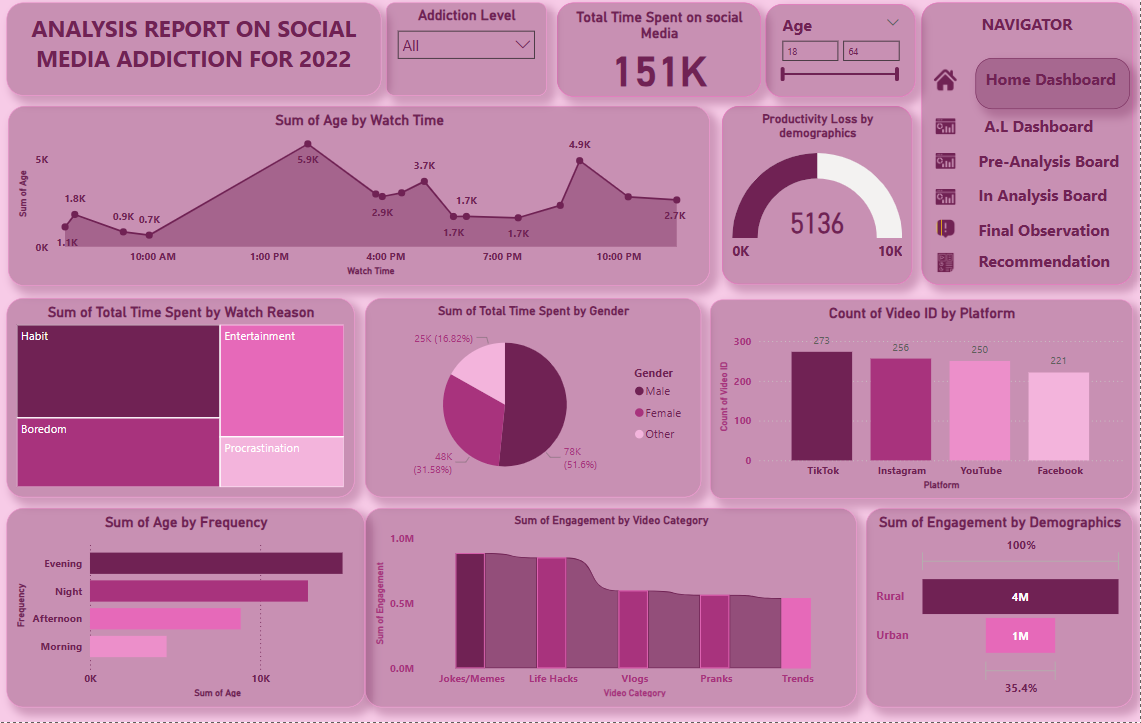

What the dashboard file says about the page in this screenshot:
{"tool":"powerbi","page":{"name":"Home Dashboard","canvas":[1340,850],"ordinal":0},"visuals":[{"type":"areaChart","fields":{"Category":["Time-Wasters on Social Media (1).Watch Time"],"Y":["Sum(Time-Wasters on Social Media (1).Age)"]},"box":[10.6,126.8,824.2,211.3],"z":0},{"type":"pieChart","fields":{"Category":["Time-Wasters on Social Media (1).Gender"],"Y":["Sum(Time-Wasters on Social Media (1).Total Time Spent)"]},"box":[429.7,352.2,394.5,234.2],"z":1000},{"type":"barChart","fields":{"Category":["Time-Wasters on Social Media (1).Frequency"],"Y":["Sum(Time-Wasters on Social Media (1).Age)"]},"box":[8.8,598.8,420.9,234.2],"z":2000},{"type":"clusteredColumnChart","fields":{"Category":["Time-Wasters on Social Media (1).Platform"],"Y":["CountNonNull(Time-Wasters on Social Media (1).Video ID)"]},"box":[834.8,354,496.6,234.2],"z":3000},{"type":"treemap","fields":{"Group":["Time-Wasters on Social Media (1).Watch Reason"],"Values":["Sum(Time-Wasters on Social Media (1).Total Time Spent)"]},"box":[8.8,352.2,408.6,234.2],"z":4000},{"type":"funnel","fields":{"Y":["Sum(Time-Wasters on Social Media (1).Engagement)"],"Category":["Time-Wasters on Social Media (1).Demographics"]},"box":[1017.9,598.8,313.5,234.2],"z":5000},{"type":"ribbonChart","fields":{"Category":["Time-Wasters on Social Media (1).Video Category"],"Y":["Sum(Time-Wasters on Social Media (1).Engagement)"]},"box":[429.7,598.8,577.6,234.2],"z":6000},{"type":"textbox","box":[8.8,5.3,440.3,109.2],"z":7000},{"type":"gauge","title":"Productivity Loss by demographics","fields":{"Y":["Sum(Time-Wasters on Social Media (1).ProductivityLoss)"]},"box":[848.8,126.8,223.7,209.6],"z":8000},{"type":"card","title":"Total Time Spent on social Media","fields":{"Values":["Sum(Time-Wasters on Social Media (1).Total Time Spent)"]},"box":[655.1,5.3,239.5,110.9],"z":9000},{"type":"slicer","title":"Addiction Level","fields":{"Values":["Time-Wasters on Social Media (1).Addiction Level"]},"box":[454.4,5.3,188.4,109.2],"z":10000},{"type":"textbox","box":[1083.1,5.3,248.3,331.1],"z":11000},{"type":"textbox","box":[1146.5,70.4,181.4,59.9],"z":12000},{"type":"textbox","box":[1146.5,126.8,181.4,44],"z":13000},{"type":"textbox","box":[1144.7,172.6,186.7,37],"z":14000},{"type":"textbox","box":[1144.7,213.1,186.7,38.7],"z":15000},{"type":"textbox","box":[1144.7,253.6,186.7,35.2],"z":16000},{"type":"textbox","box":[1144.7,290.6,186.7,40.5],"z":17000},{"type":"slicer","fields":{"Values":["Time-Wasters on Social Media (1).Age"]},"box":[899.9,7,176.1,109.2],"z":18000},{"type":"image","box":[1088.4,77.5,45.8,37],"z":18001},{"type":"image","box":[1093.6,130.3,35.2,40.5],"z":18002},{"type":"image","box":[1093.6,170.8,35.2,40.5],"z":18003},{"type":"image","box":[1093.6,213.1,35.2,40.5],"z":18004},{"type":"image","box":[1093.6,283.5,35.2,54.6],"z":18005},{"type":"image","box":[1093.6,246.6,35.2,49.3],"z":18006}]}

Visuals, with their boxes in screenshot pixels (x1, y1, x2, y2), scaled from the page's 1340x850 canvas onto the 1141x723 screenshot:
areaChart - Time-Wasters on Social Media (1).Watch Time x Sum(Time-Wasters on Social Media (1).Age): 9,108,711,288
pieChart - Time-Wasters on Social Media (1).Gender x Sum(Time-Wasters on Social Media (1).Total Time Spent): 366,300,702,499
barChart - Time-Wasters on Social Media (1).Frequency x Sum(Time-Wasters on Social Media (1).Age): 7,509,366,709
clusteredColumnChart - Time-Wasters on Social Media (1).Platform x CountNonNull(Time-Wasters on Social Media (1).Video ID): 711,301,1134,500
treemap - Time-Wasters on Social Media (1).Watch Reason x Sum(Time-Wasters on Social Media (1).Total Time Spent): 7,300,355,499
funnel - Sum(Time-Wasters on Social Media (1).Engagement) x Time-Wasters on Social Media (1).Demographics: 867,509,1134,709
ribbonChart - Time-Wasters on Social Media (1).Video Category x Sum(Time-Wasters on Social Media (1).Engagement): 366,509,858,709
textbox: 7,5,382,97
"Productivity Loss by demographics" gauge: 723,108,913,286
"Total Time Spent on social Media" card: 558,5,762,99
"Addiction Level" slicer: 387,5,547,97
textbox: 922,5,1134,286
textbox: 976,60,1131,111
textbox: 976,108,1131,145
textbox: 975,147,1134,178
textbox: 975,181,1134,214
textbox: 975,216,1134,246
textbox: 975,247,1134,282
slicer - Time-Wasters on Social Media (1).Age: 766,6,916,99
image: 927,66,966,97
image: 931,111,961,145
image: 931,145,961,180
image: 931,181,961,216
image: 931,241,961,288
image: 931,210,961,252
